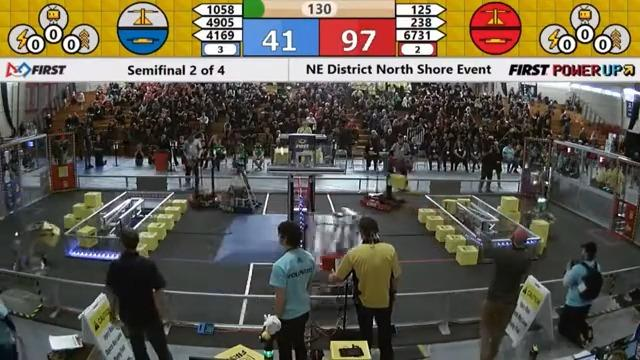robot: (309, 238, 366, 306), (0, 220, 62, 279), (516, 170, 560, 238), (216, 156, 262, 216), (359, 169, 410, 216), (187, 152, 222, 212)
